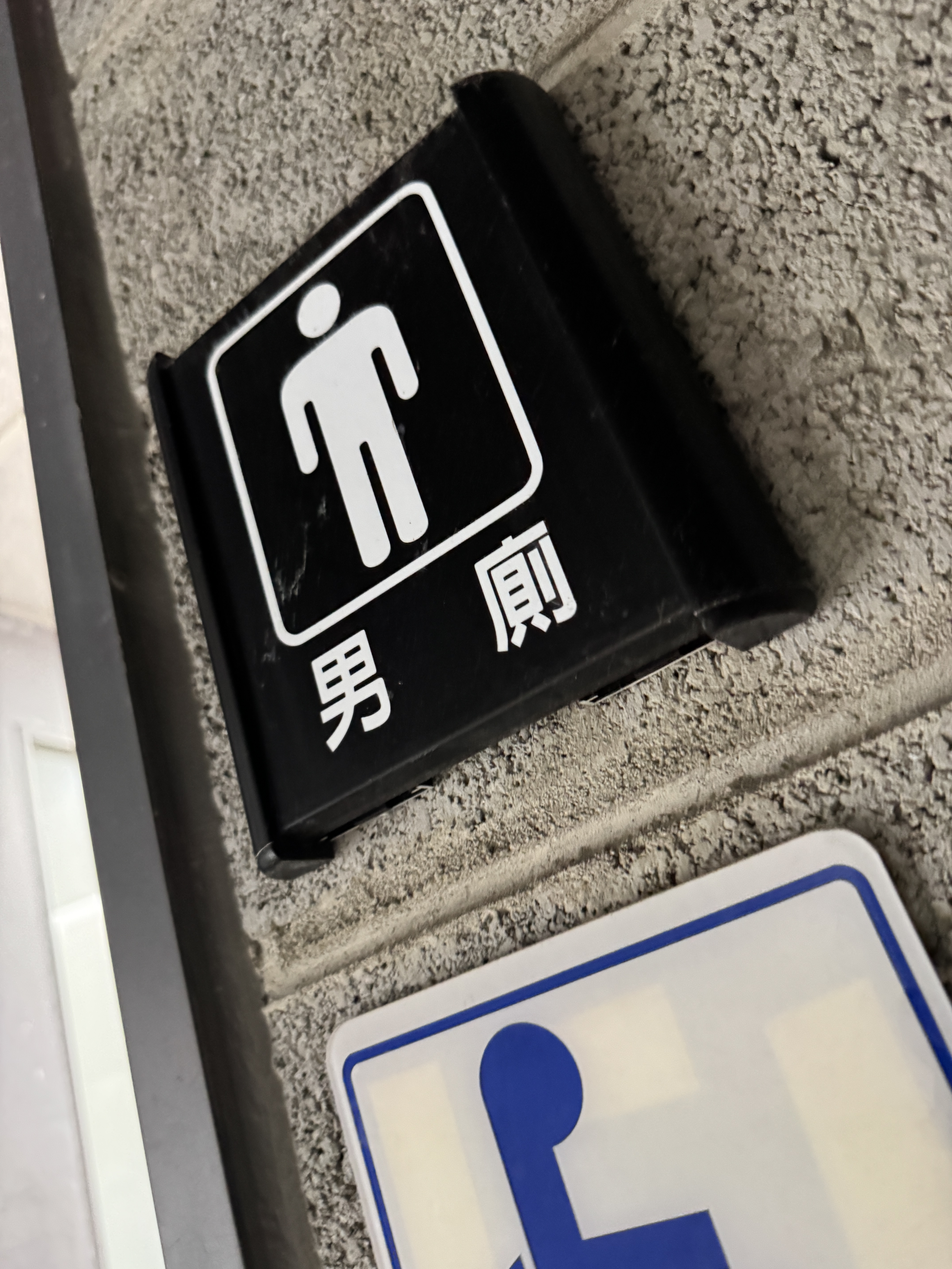toilet_sign: (136, 67, 810, 877), (118, 81, 818, 804)
